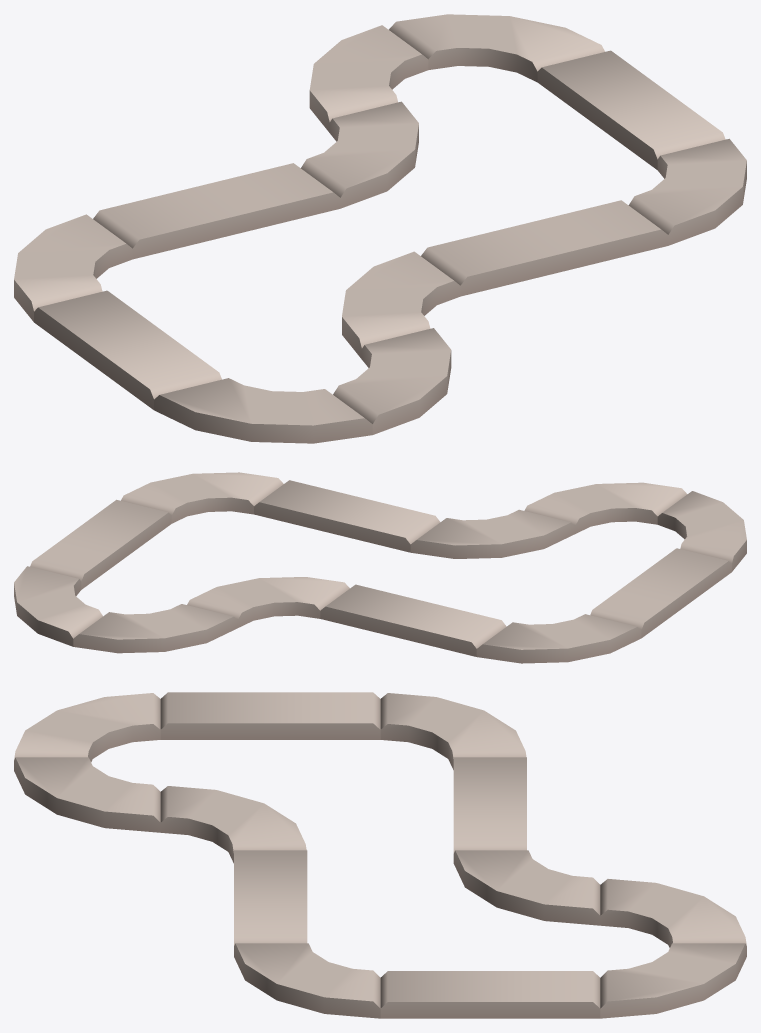
Rendered from toy-train-track-large_0.glb.
3 renders of one model, top to bottom at view 1: azimuth 30°, elevation 25°; view 2: azimuth 150°, elevation 25°; view 3: azimuth 270°, elevation 25°, orthographic. The views are drawn at different scales.
Visible parts, largest first — view 1: toy-train-track-large; view 2: toy-train-track-large; view 3: toy-train-track-large.
Part boxes in pixels (x1,y1,x2,y2): toy-train-track-large: [14, 14, 746, 443]; toy-train-track-large: [14, 472, 746, 663]; toy-train-track-large: [14, 692, 746, 1018].
Bounding box in the file's own units: 1 × 0.025 × 1.
